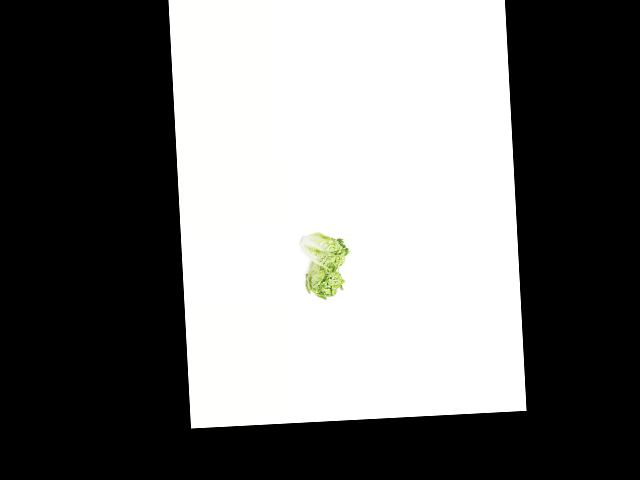lettuce: (298, 256, 346, 301)
